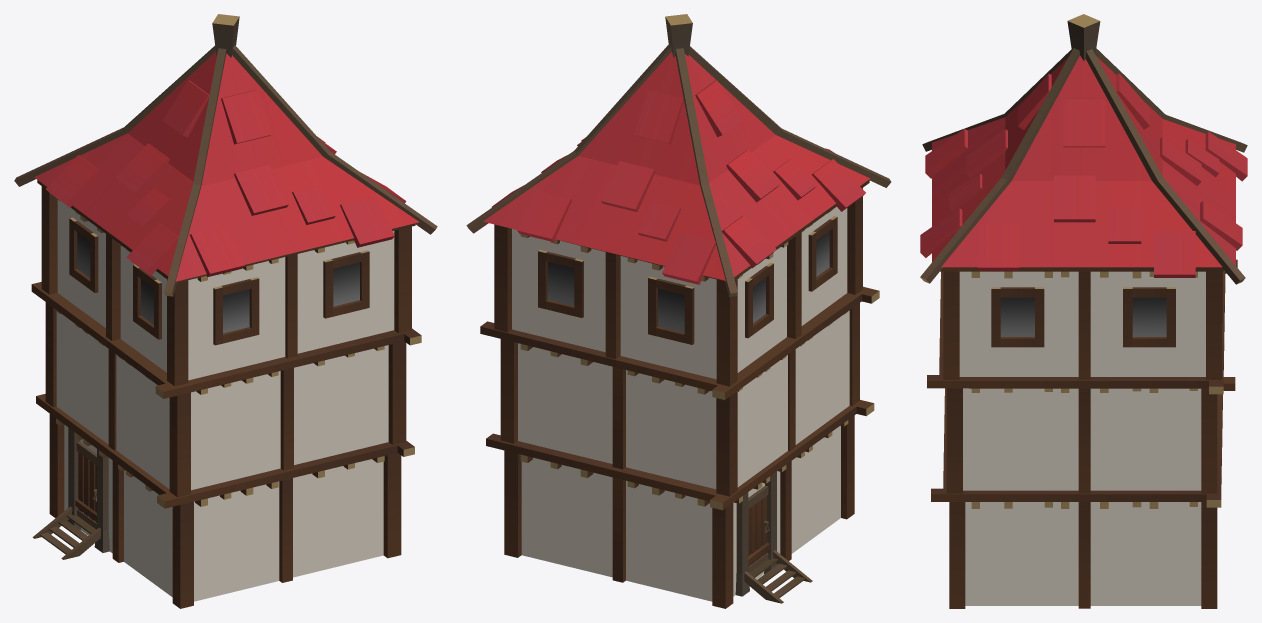
Rendered from House_12.fbx.
3 renders of one model, left to right at view 1: azimuth 30°, elevation 25°; view 2: azimuth 150°, elevation 25°; view 3: azimuth 270°, elevation 25°, orthographic. The views are drawn at different scales.
Visible parts, largest first — view 1: polySurface9795; view 2: polySurface9795; view 3: polySurface9795.
Part boxes in pixels (left/top/right/bottom): polySurface9795: left=14, top=14, right=437, bottom=608; polySurface9795: left=466, top=14, right=891, bottom=608; polySurface9795: left=920, top=14, right=1247, bottom=608.
Bounding box in the file's own units: 817 × 1407 × 785.
